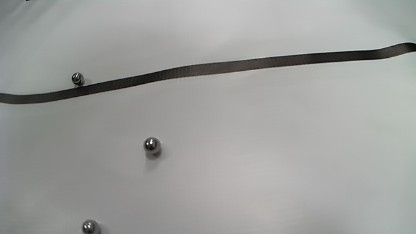ironball: (143, 136, 161, 155), (82, 219, 100, 234), (72, 72, 84, 86)
